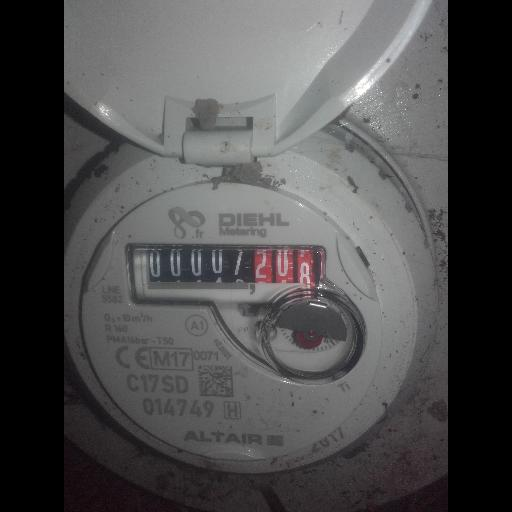0: (273, 247, 296, 283), (207, 246, 229, 282), (186, 246, 207, 282), (146, 247, 165, 283), (167, 246, 186, 282)
2: (254, 247, 273, 283)
7: (229, 247, 252, 283)
8: (297, 247, 316, 285)
border_water_meter_number: (132, 244, 326, 303)
